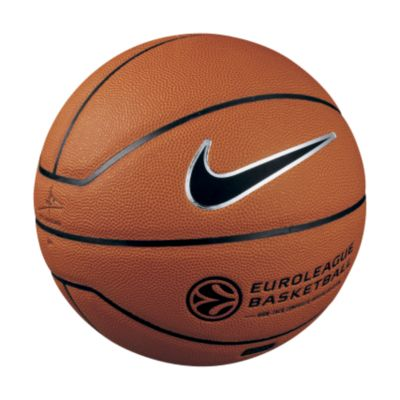basketball: (32, 32, 366, 368)
